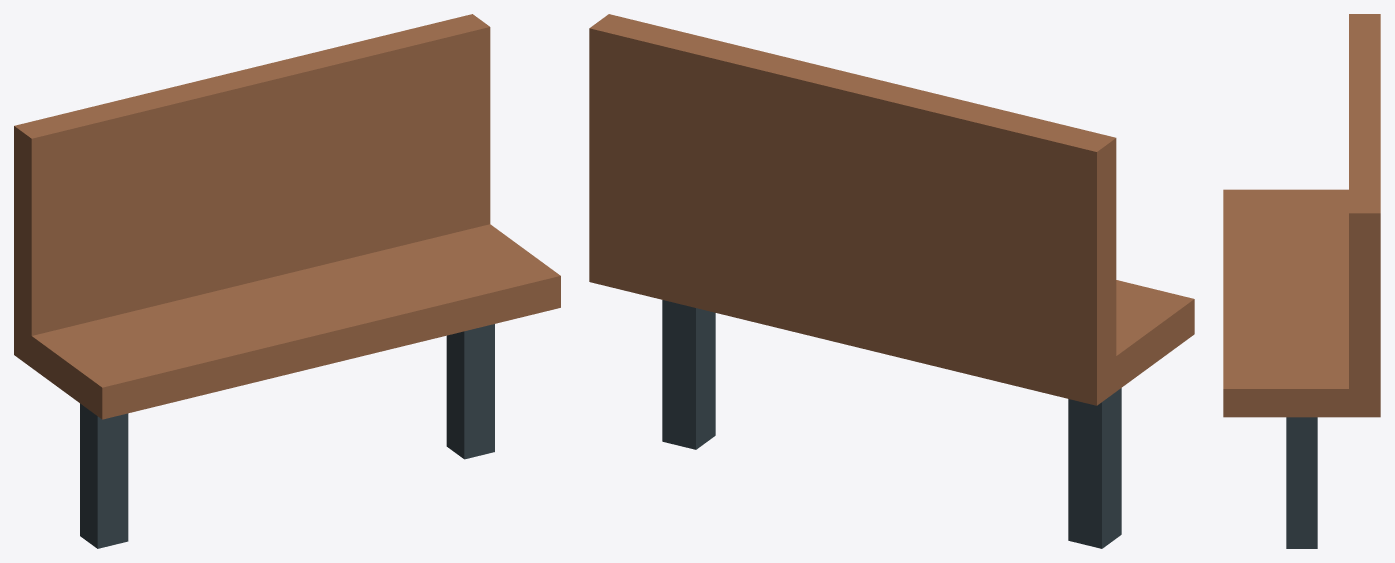
File: park-bench.gltf
3 views of the same model, side by side, from view 1: azimuth 30°, elevation 25°; view 2: azimuth 150°, elevation 25°; view 3: azimuth 270°, elevation 25° (orthographic). The views are drawn at different scales.
Size of the model in its own units: 1.8 by 1.47 by 0.6.
